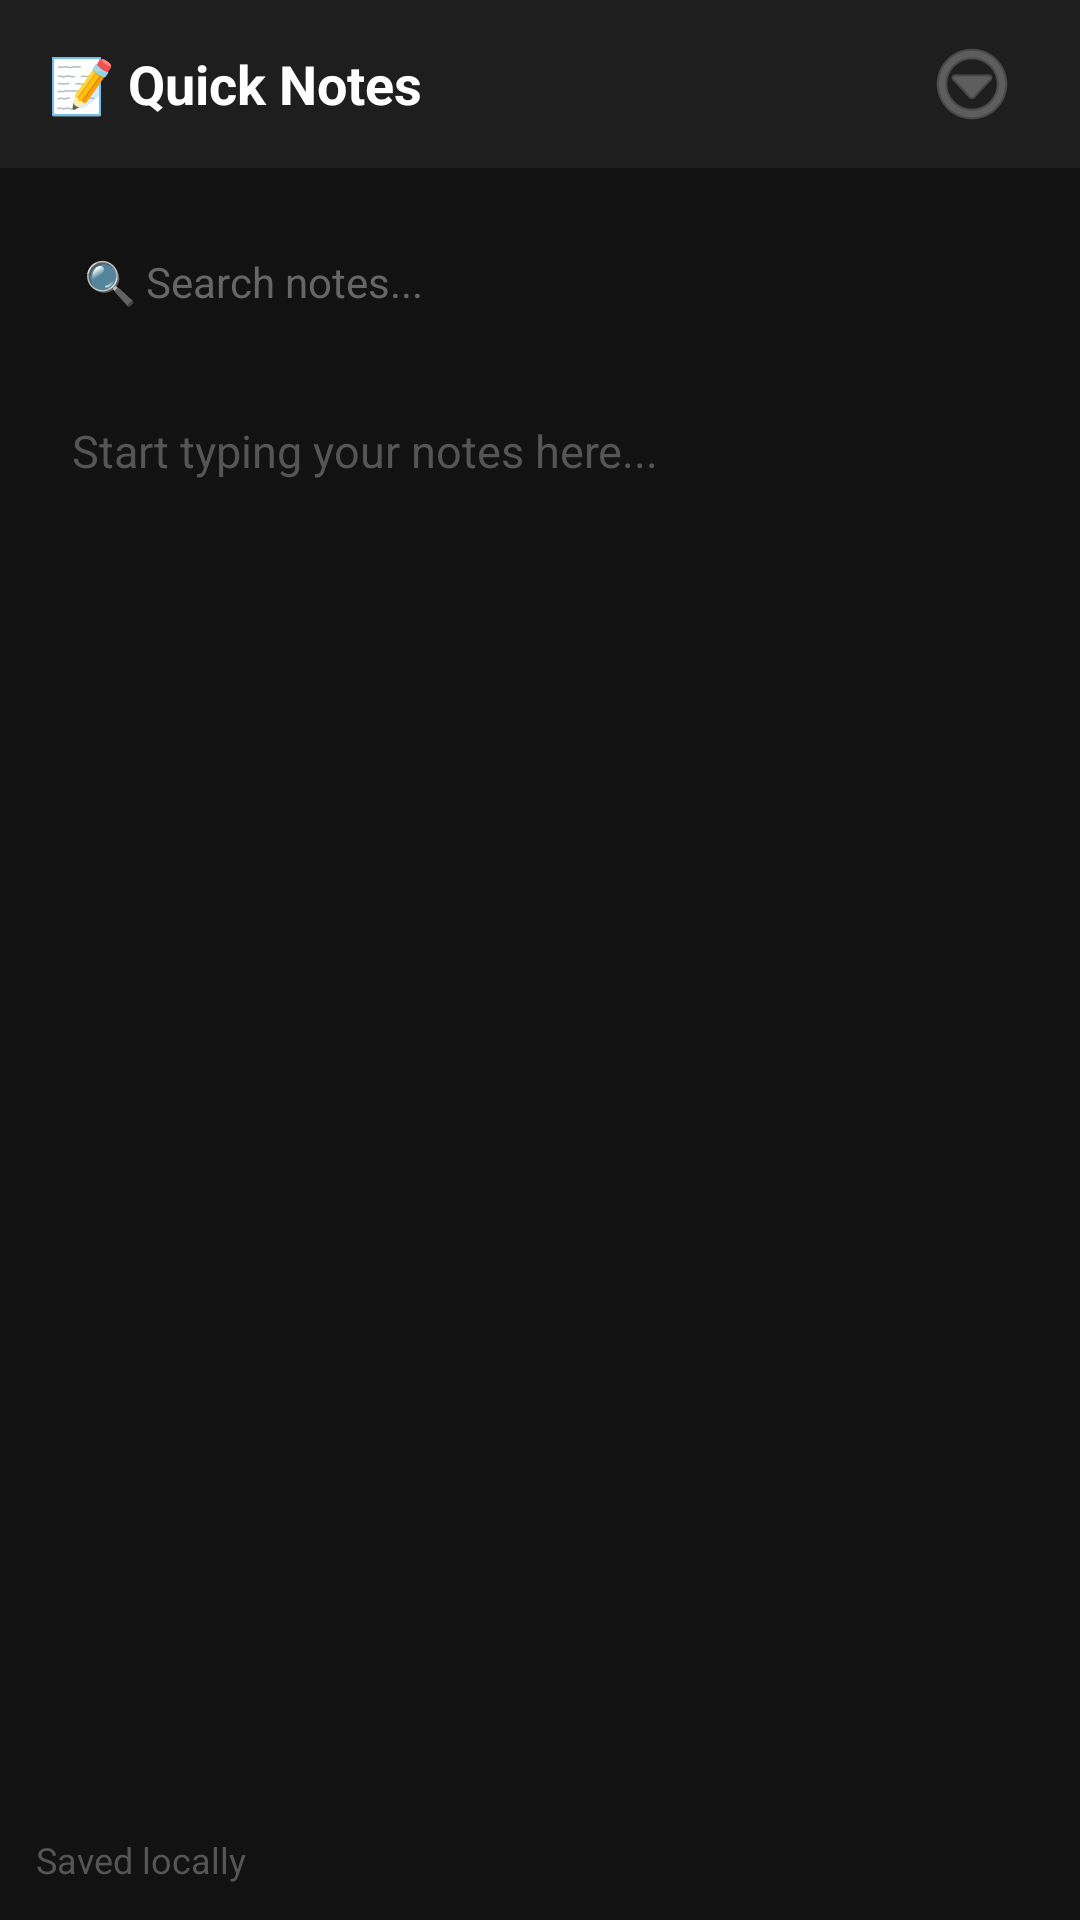

Named icons in this screenshot (1080×1920) and their centers, (x,y):
Options: (972,84)
